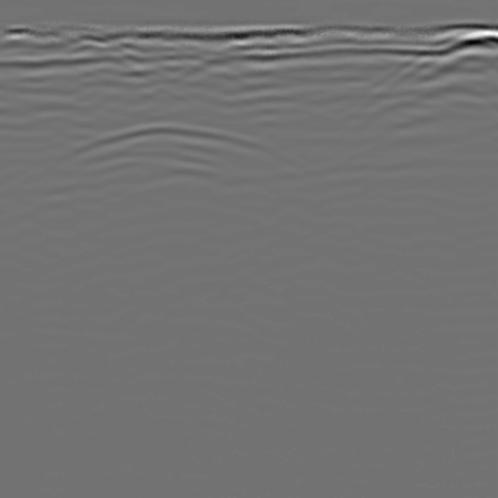hyperbola: (33, 112, 303, 218)
